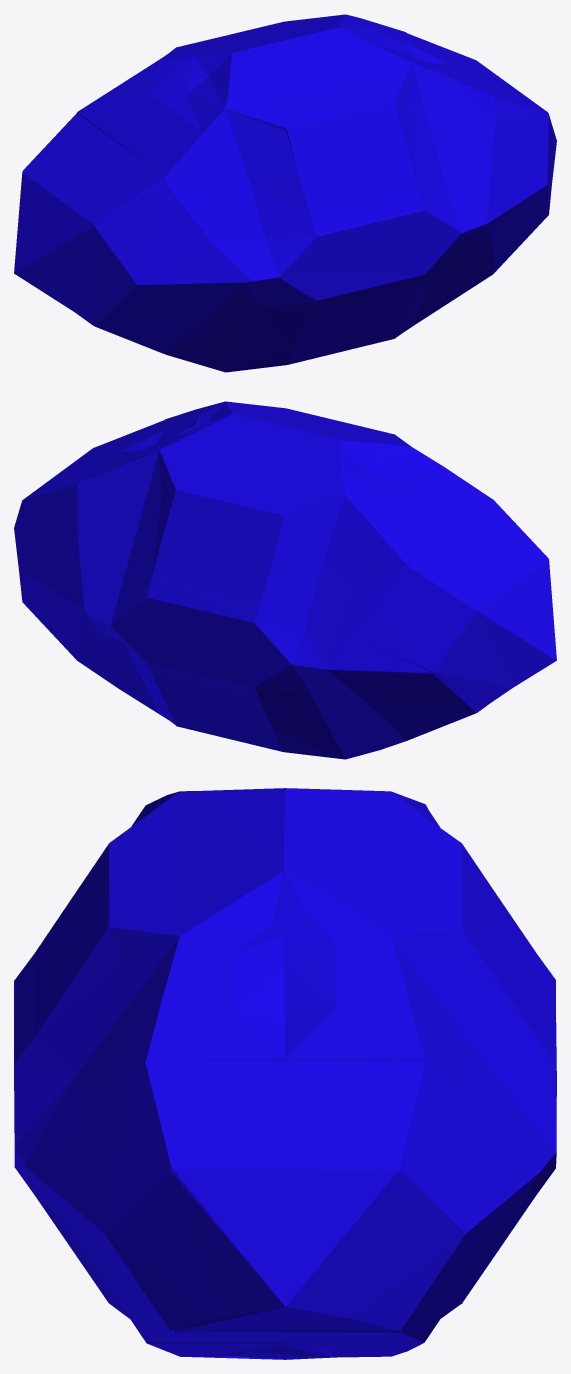
Rendered from meteor_blue_silence_crystal_03.glb.
3 renders of one model, top to bottom at view 1: azimuth 30°, elevation 25°; view 2: azimuth 150°, elevation 25°; view 3: azimuth 270°, elevation 25°, orthographic. The views are drawn at different scales.
Parts seen in each view (by area): view 1: Mesh1.019; view 2: Mesh1.019; view 3: Mesh1.019.
Boxes of the visible parts, box(x1,y1,x2,y2) form: Mesh1.019: box(14, 14, 556, 372); Mesh1.019: box(14, 401, 556, 759); Mesh1.019: box(14, 788, 556, 1359).
Bounding box in the file's own units: 1.91 × 1.03 × 1.04.
